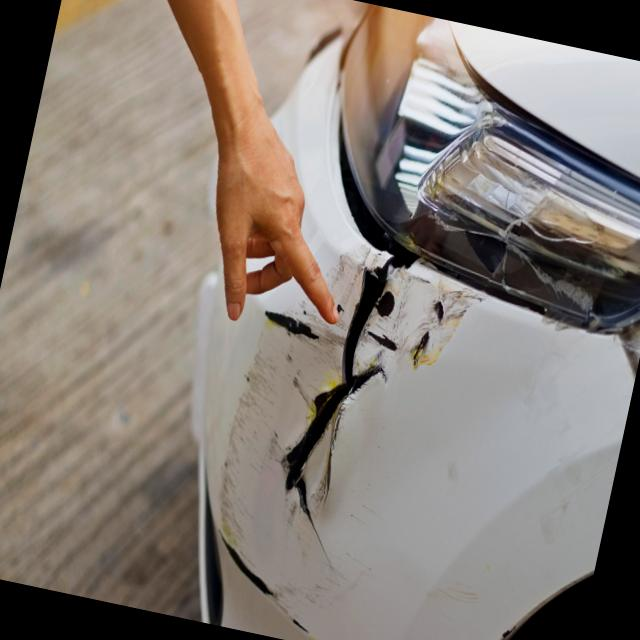Dechirure: (257, 234, 407, 588), (366, 275, 404, 342)
Rayure: (189, 301, 378, 640), (287, 237, 494, 409)
